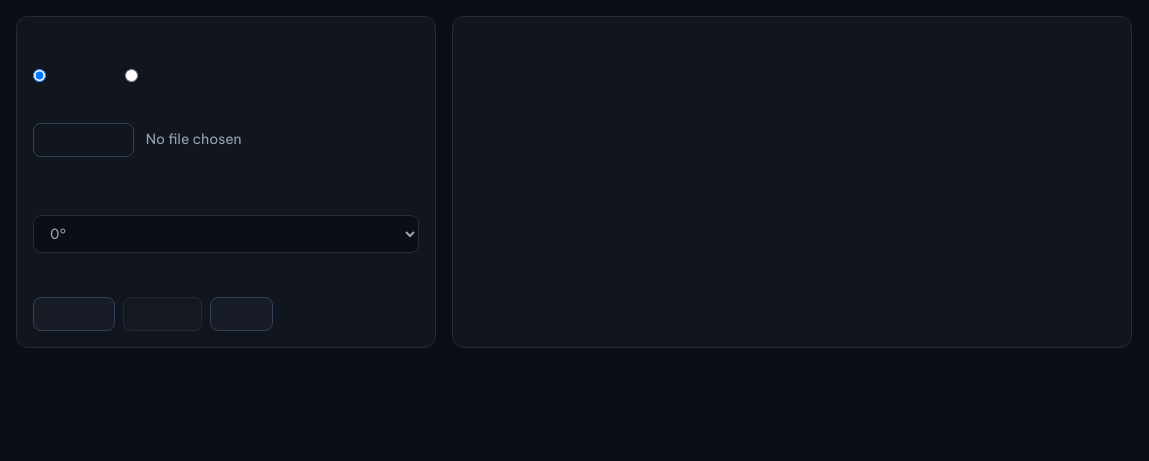
Test: Merge / split PDF tool › exposes split, range, cancel, reset, and Vietnamese privacy controls
Click the radio button labelled "Tách trang".
click(132, 75)  # box x1=125 y1=68 x2=138 y2=82
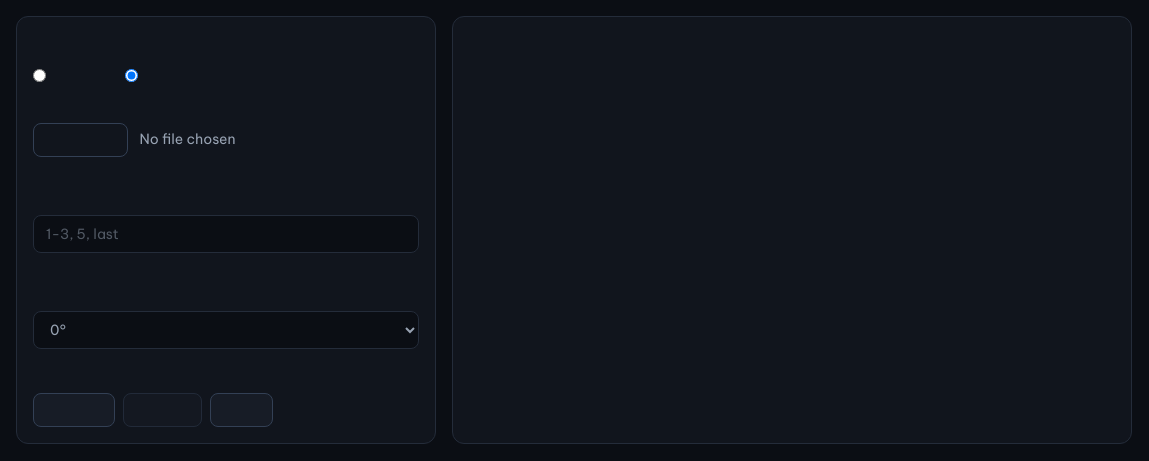
Expected: the button "Hủy xử lý" is disabled, x1=123 y1=393 x2=202 y2=427
Result: the field labelled "Phạm vi trang" is empty at x1=33 y1=215 x2=419 y2=253
Click the button "Đặt lại".
click(241, 410)  # box x1=210 y1=393 x2=273 y2=427
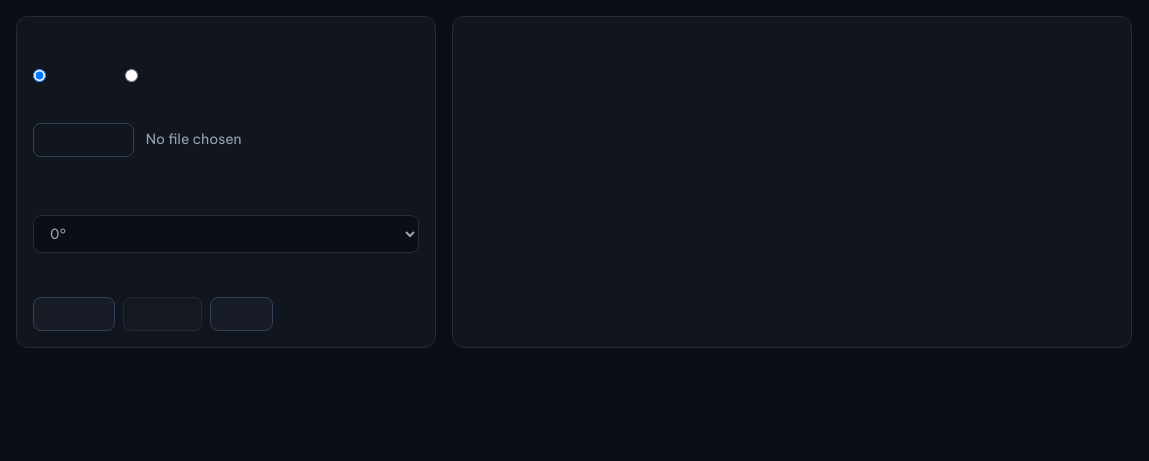
Result: the radio button labelled "Gộp tệp" is checked at x1=33 y1=68 x2=46 y2=82
